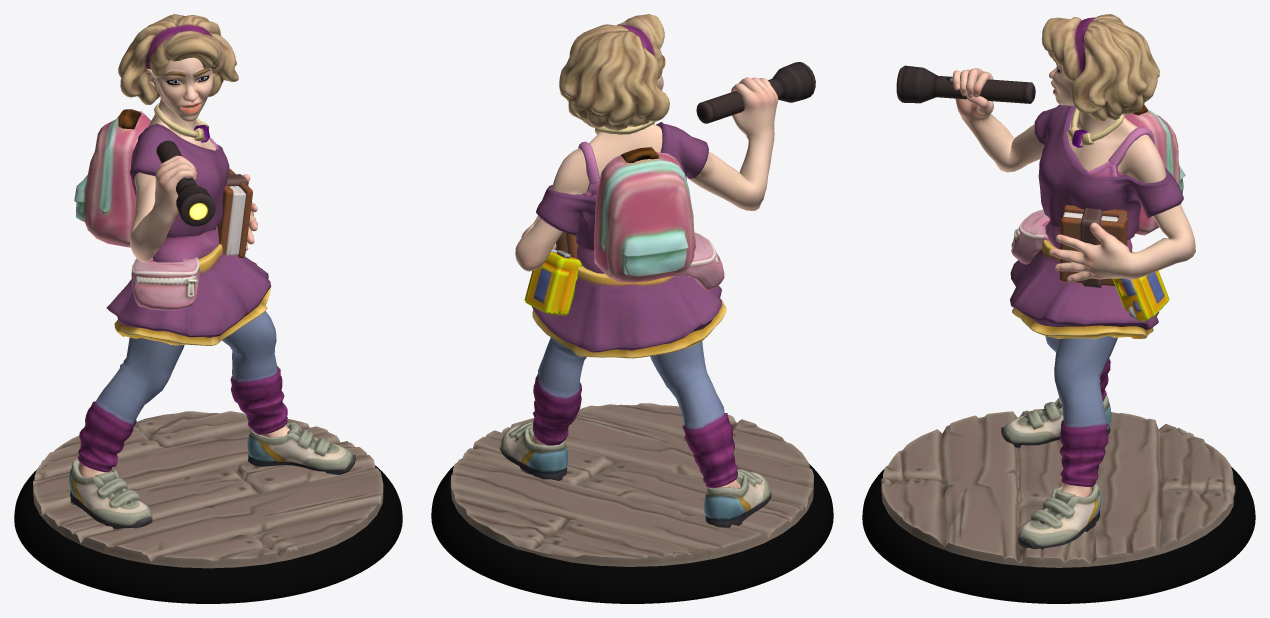
Rendered from michelle-monroe.glb.
The picture shows the model from 3 angles, left to right: view 1: azimuth 30°, elevation 25°; view 2: azimuth 150°, elevation 25°; view 3: azimuth 270°, elevation 25°; orthographic projection. The views are drawn at different scales.
Bounding box in the file's own units: 0.7164 × 1 × 0.7164.
Materials: 1 (1 with a texture image).
